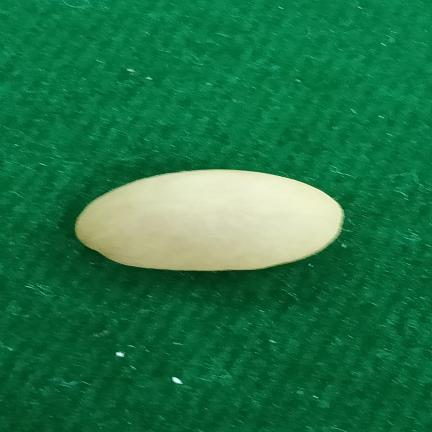parchment: (75, 169, 344, 271)
